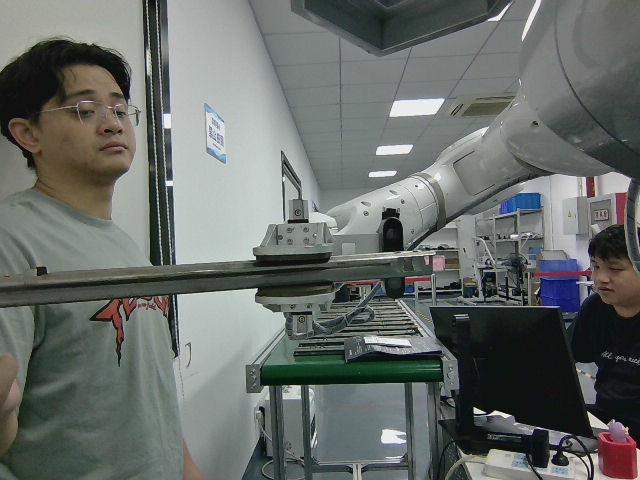up: (0, 250, 436, 307)
